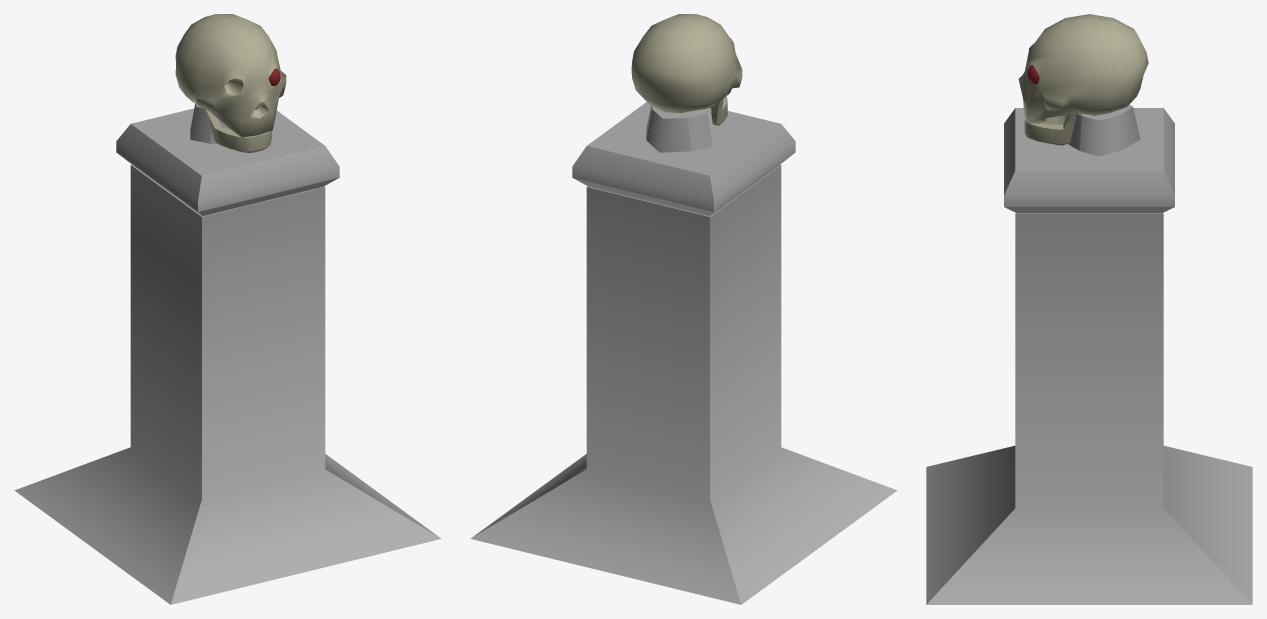
The model's file is SkullAlter02.fbx.
3 renders of one model, left to right at view 1: azimuth 30°, elevation 25°; view 2: azimuth 150°, elevation 25°; view 3: azimuth 270°, elevation 25°, orthographic. The views are drawn at different scales.
Visible parts, largest first — view 1: Eich_pedestal, Eich_Skull, Eich_Jaw; view 2: Eich_pedestal, Eich_Skull; view 3: Eich_pedestal, Eich_Skull, Eich_Jaw.
Part boxes in pixels (left/top/right/bottom): Eich_pedestal: left=14, top=103, right=441, bottom=604; Eich_Skull: left=175, top=14, right=286, bottom=137; Eich_Jaw: left=204, top=109, right=271, bottom=152; Eich_pedestal: left=470, top=102, right=897, bottom=604; Eich_Skull: left=631, top=14, right=742, bottom=113; Eich_pedestal: left=926, top=104, right=1252, bottom=604; Eich_Skull: left=1018, top=14, right=1148, bottom=123; Eich_Jaw: left=1024, top=113, right=1077, bottom=145.
Size of the model in its own units: 2.2 by 3.83 by 2.2.
